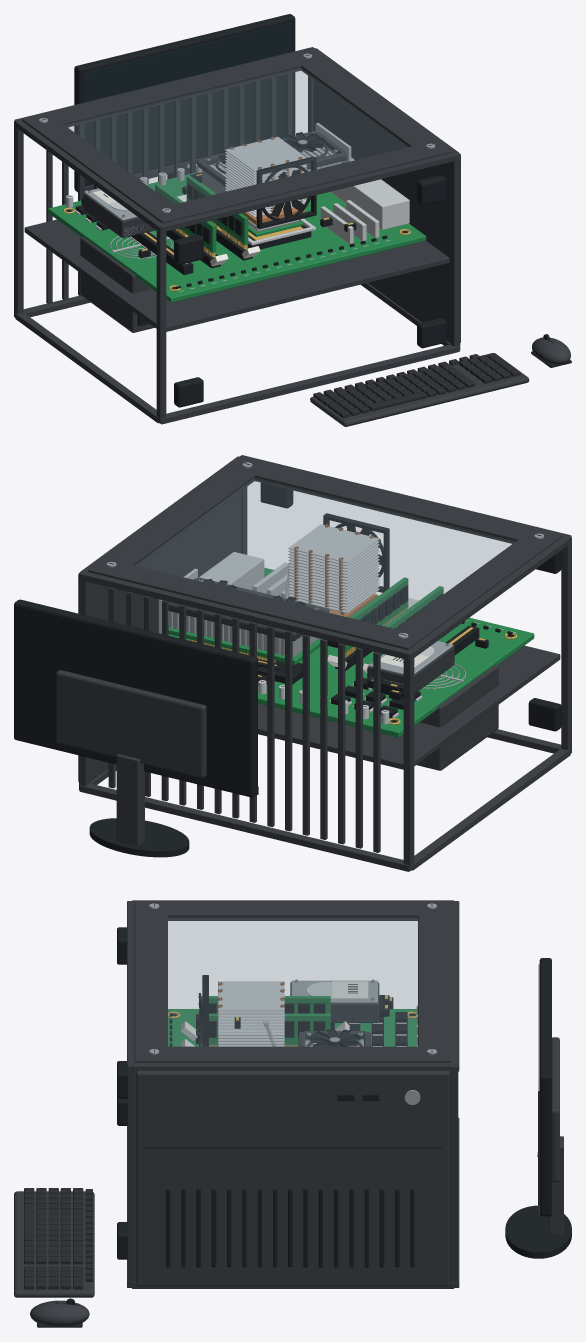
The model's file is teaching-pc.glb.
3 views of the same model, one above another, from view 1: azimuth 30°, elevation 25°; view 2: azimuth 150°, elevation 25°; view 3: azimuth 270°, elevation 25° (orthographic). The views are drawn at different scales.
Parts seen in each view (by area): view 1: case_mesh, side_panel_mesh, motherboard_mesh, monitor_mesh, keyboard_mesh, cooler_mesh, psu_mesh, gpu_mesh, storage_hdd_mesh, ram_1_mesh, ram_0_mesh, mouse_mesh (+1 smaller); view 2: side_panel_mesh, case_mesh, monitor_mesh, motherboard_mesh, cooler_mesh, gpu_mesh, psu_mesh, storage_hdd_mesh, ram_1_mesh, ram_0_mesh; view 3: case_mesh, side_panel_mesh, keyboard_mesh, monitor_mesh, cooler_mesh, motherboard_mesh, storage_hdd_mesh, ram_1_mesh, mouse_mesh, ram_0_mesh, gpu_fan_left_mesh, gpu_mesh.
Boxes of the visible parts, box(x1,y1,x2,y2) form: case_mesh: box(14, 47, 460, 424); side_panel_mesh: box(22, 48, 451, 223); motherboard_mesh: box(48, 157, 426, 302); monitor_mesh: box(74, 14, 295, 192); keyboard_mesh: box(310, 353, 529, 426); cooler_mesh: box(225, 136, 316, 229); psu_mesh: box(80, 232, 172, 332); gpu_mesh: box(197, 123, 351, 193); storage_hdd_mesh: box(83, 188, 155, 237); ram_1_mesh: box(186, 176, 248, 248); ram_0_mesh: box(155, 183, 216, 256); mouse_mesh: box(531, 334, 571, 367); side_panel_mesh: box(88, 456, 562, 649); case_mesh: box(78, 455, 571, 871); monitor_mesh: box(14, 599, 258, 857); motherboard_mesh: box(168, 552, 534, 737); cooler_mesh: box(288, 513, 389, 617); gpu_mesh: box(158, 568, 328, 664); psu_mesh: box(416, 663, 498, 770); storage_hdd_mesh: box(367, 641, 454, 694); ram_1_mesh: box(345, 577, 408, 657); ram_0_mesh: box(380, 586, 443, 655); case_mesh: box(117, 900, 459, 1288); side_panel_mesh: box(134, 901, 451, 1062); keyboard_mesh: box(14, 1188, 94, 1297); monitor_mesh: box(505, 958, 571, 1258); cooler_mesh: box(202, 975, 284, 1046); motherboard_mesh: box(168, 997, 417, 1046); storage_hdd_mesh: box(290, 979, 379, 1022); ram_1_mesh: box(201, 1013, 330, 1046); mouse_mesh: box(30, 1298, 89, 1327); ram_0_mesh: box(201, 996, 330, 1013); gpu_fan_left_mesh: box(309, 1028, 359, 1046); gpu_mesh: box(298, 1031, 370, 1046).
Bounding box in the file's own units: 0.5695 × 0.2957 × 0.6481.
